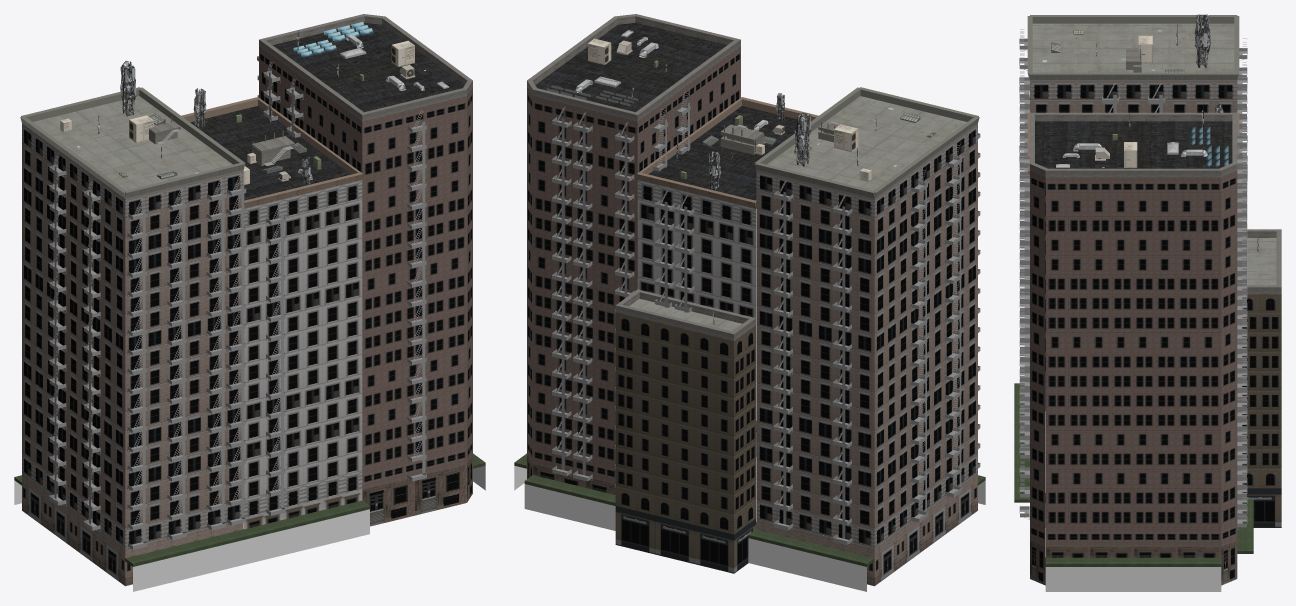
File: building3.gltf
3 views of the same model, side by side, from view 1: azimuth 30°, elevation 25°; view 2: azimuth 150°, elevation 25°; view 3: azimuth 270°, elevation 25° (orthographic).
Parts seen in each view (by area): view 1: Object_118.007, Object_99.081, Object_99.064; view 2: Object_118.007, Object_99.081, Object_99.064; view 3: Object_118.007, Object_99.064, Object_99.068, Object_99.067, Object_99.099.
Boxes of the visible parts, left/top/right/bottom form: Object_118.007: left=14, top=14, right=485, bottom=591; Object_99.081: left=252, top=130, right=294, bottom=166; Object_99.064: left=120, top=60, right=136, bottom=116; Object_118.007: left=514, top=14, right=985, bottom=591; Object_99.081: left=720, top=124, right=765, bottom=154; Object_99.064: left=794, top=112, right=810, bottom=166; Object_118.007: left=1014, top=15, right=1281, bottom=591; Object_99.064: left=1194, top=14, right=1210, bottom=67; Object_99.068: left=1121, top=48, right=1141, bottom=72; Object_99.067: left=1138, top=35, right=1152, bottom=62; Object_99.099: left=1124, top=142, right=1137, bottom=167.
Bounding box in the file's own units: 61.15 × 68.06 × 37.36.
22 materials, 14 textured.
